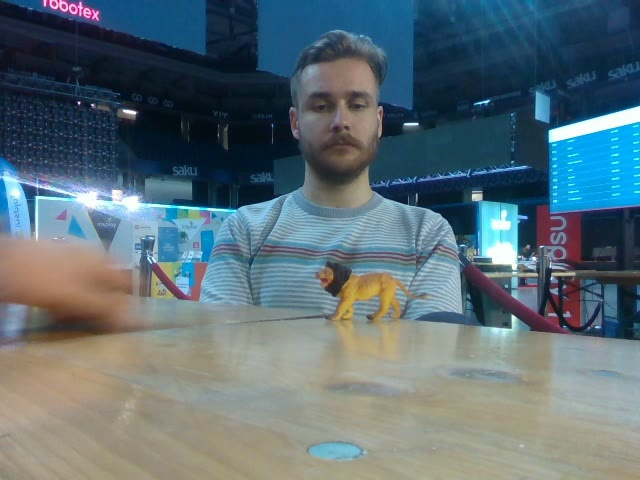toy: (314, 260, 428, 321)
